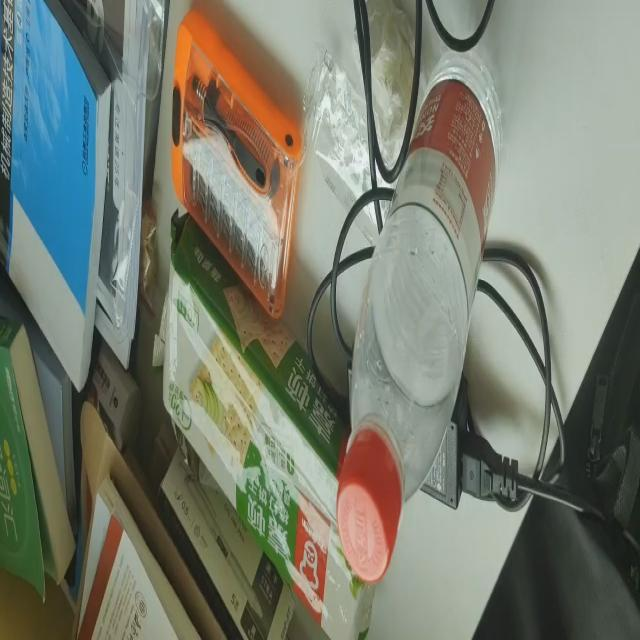good: (338, 52, 502, 584)
